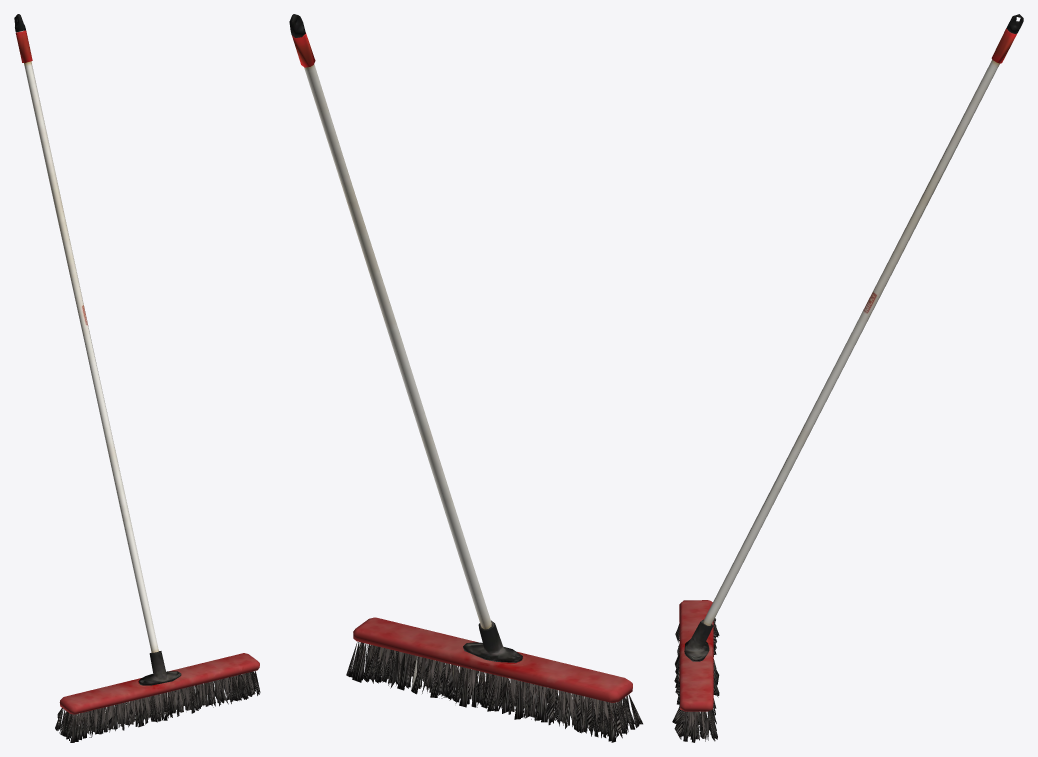
The model's file is plastic_broom.glb.
The picture shows the model from 3 angles, left to right: view 1: azimuth 30°, elevation 25°; view 2: azimuth 150°, elevation 25°; view 3: azimuth 270°, elevation 25°; orthographic projection. The views are drawn at different scales.
Visible parts, largest first — view 1: plastic_broom; view 2: plastic_broom; view 3: plastic_broom.
Part boxes in pixels (box(x1,y1,x2,y2)): plastic_broom: box(14, 14, 260, 742); plastic_broom: box(289, 14, 642, 742); plastic_broom: box(672, 14, 1023, 742).
Bounding box in the file's own units: 0.4157 × 1.2 × 0.5645.
2 materials, 2 textured.
